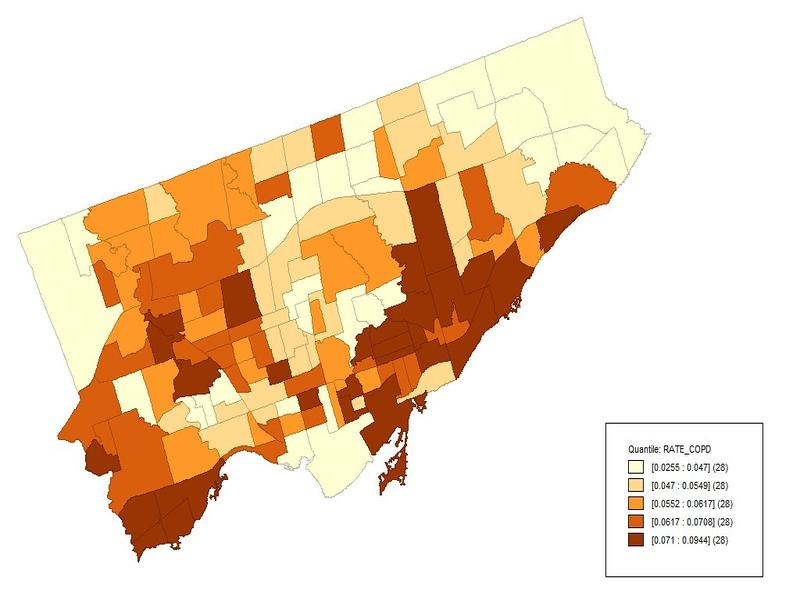legend: (604, 419, 766, 580)
